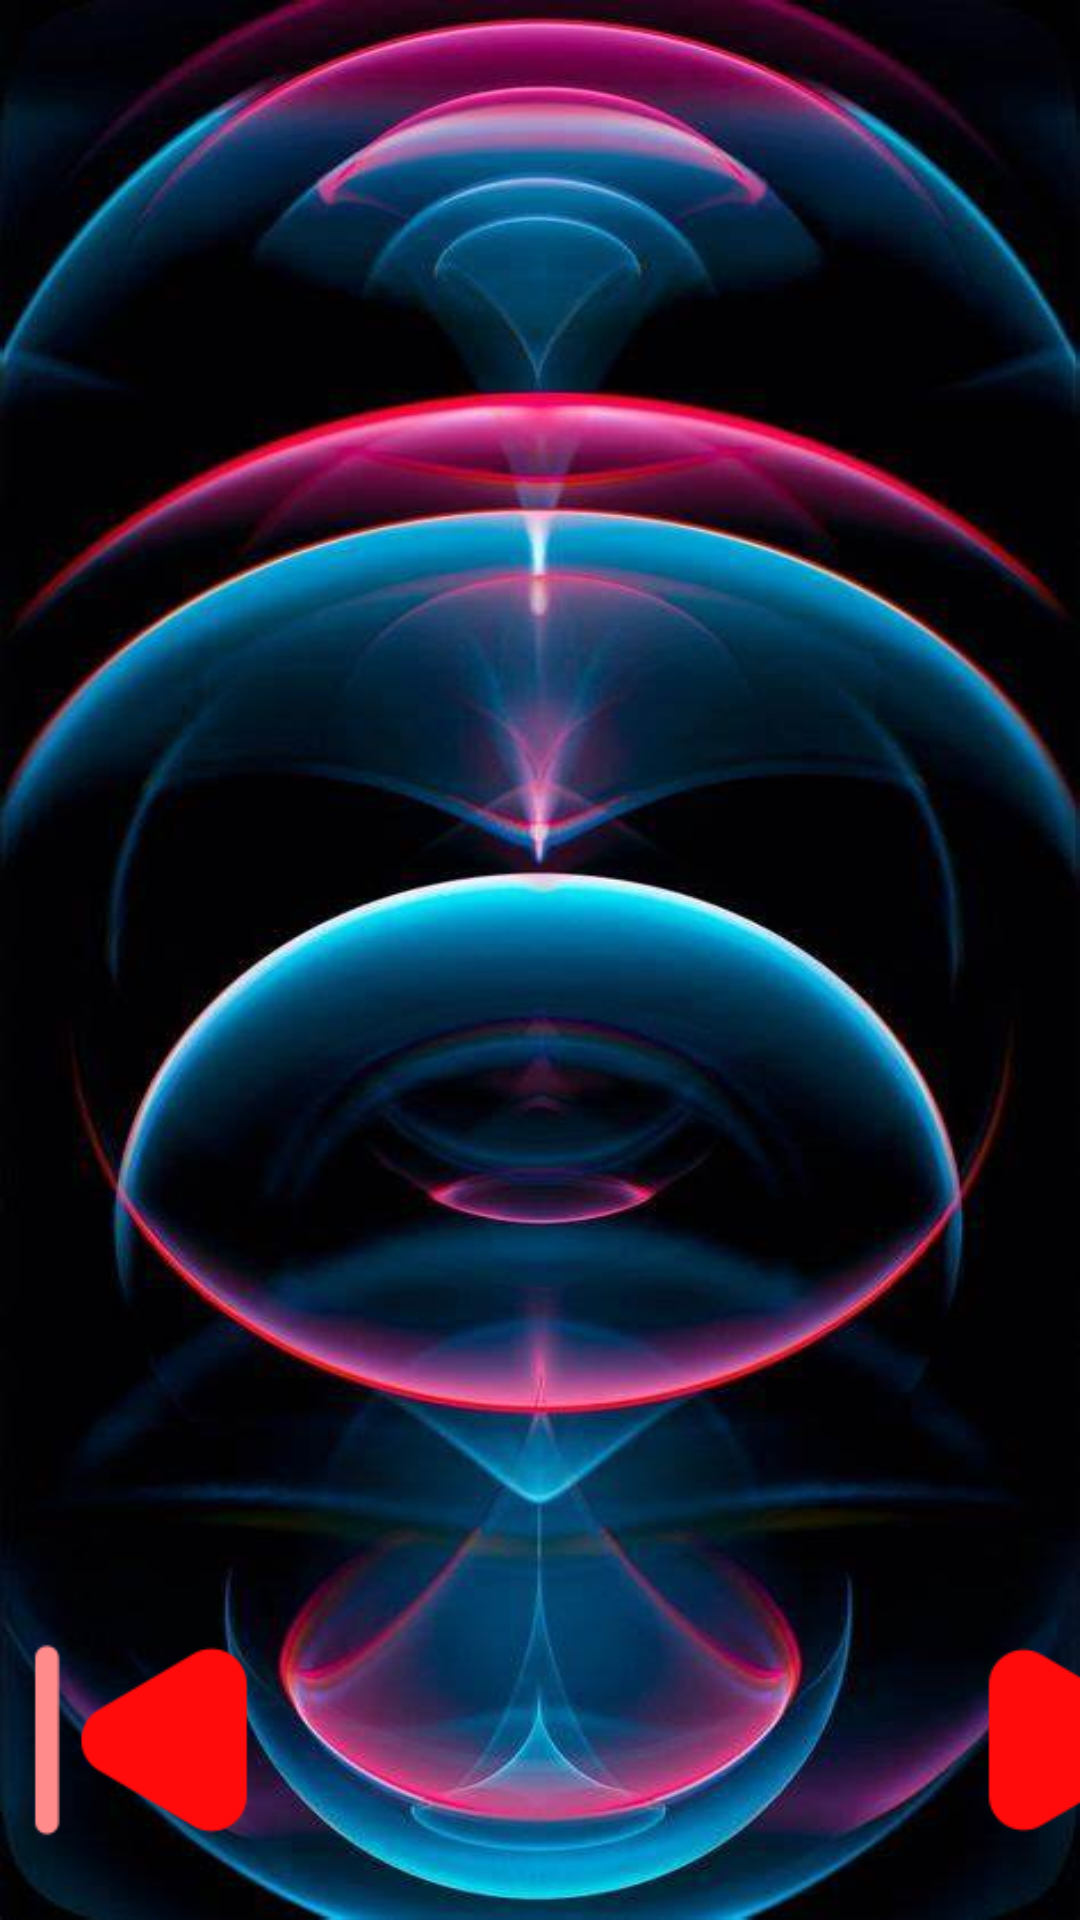

Where to tap for icons on this 1080 x 1920 app screen, as (x,y):
previous: (141,1740)
